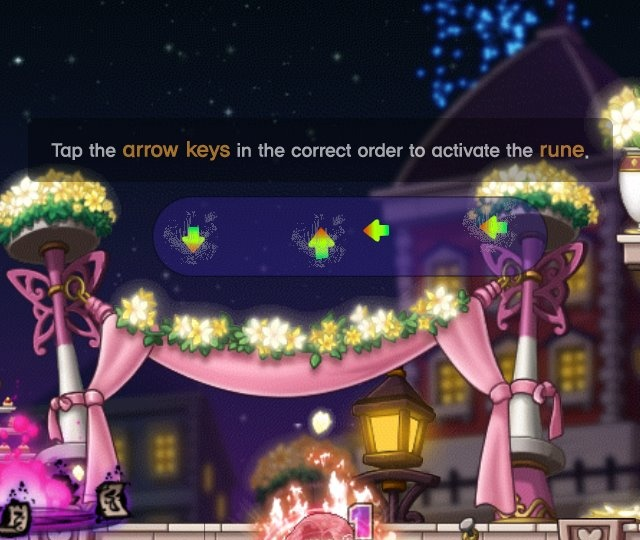rune_box: (148, 190, 556, 287)
